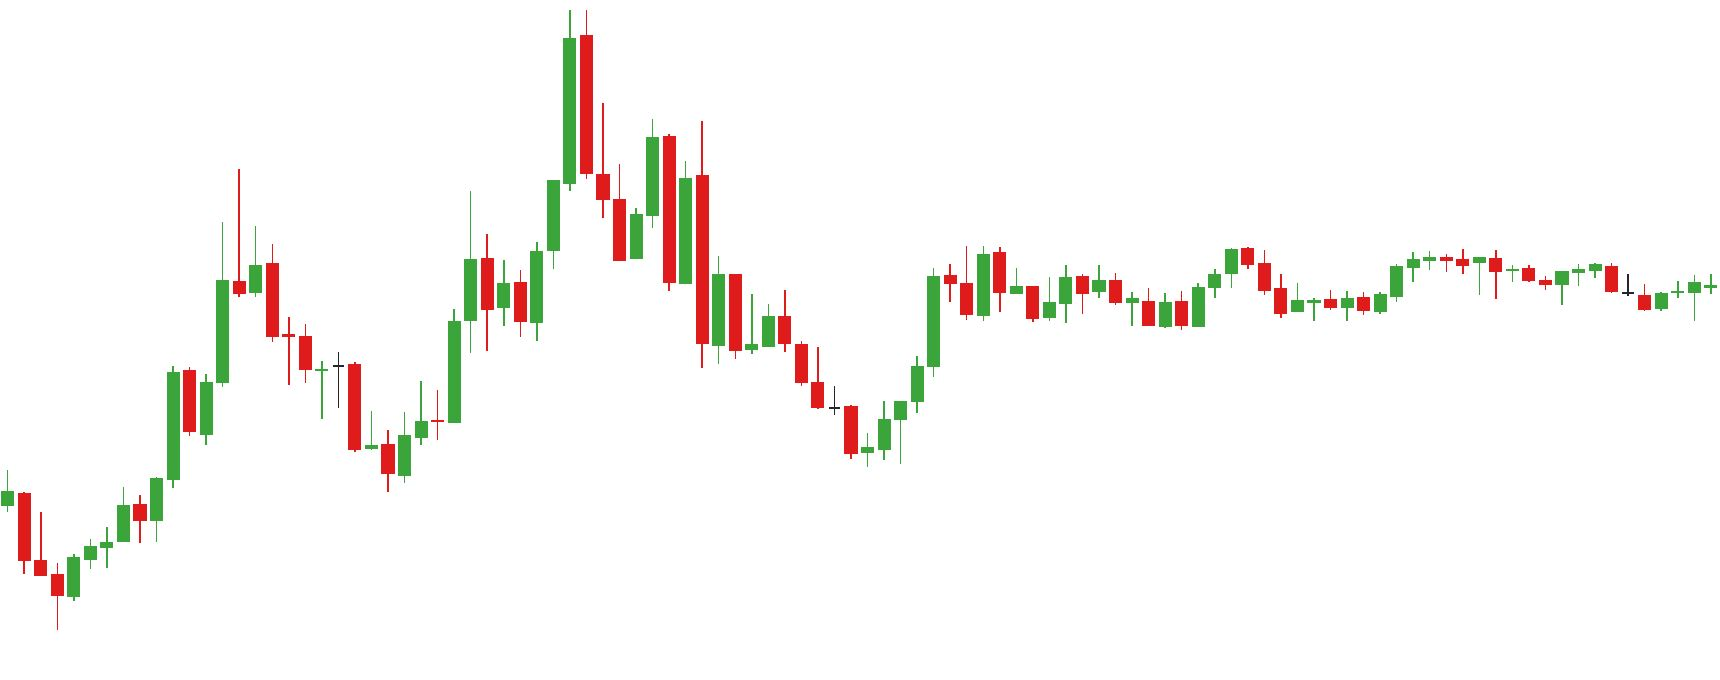sell: (229, 11, 596, 270)
